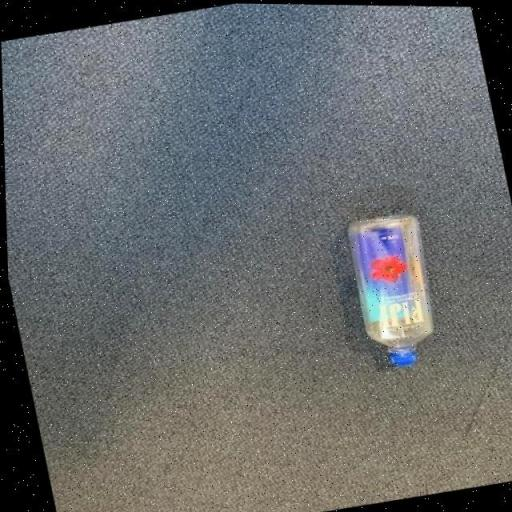plastic: (340, 206, 447, 370)
